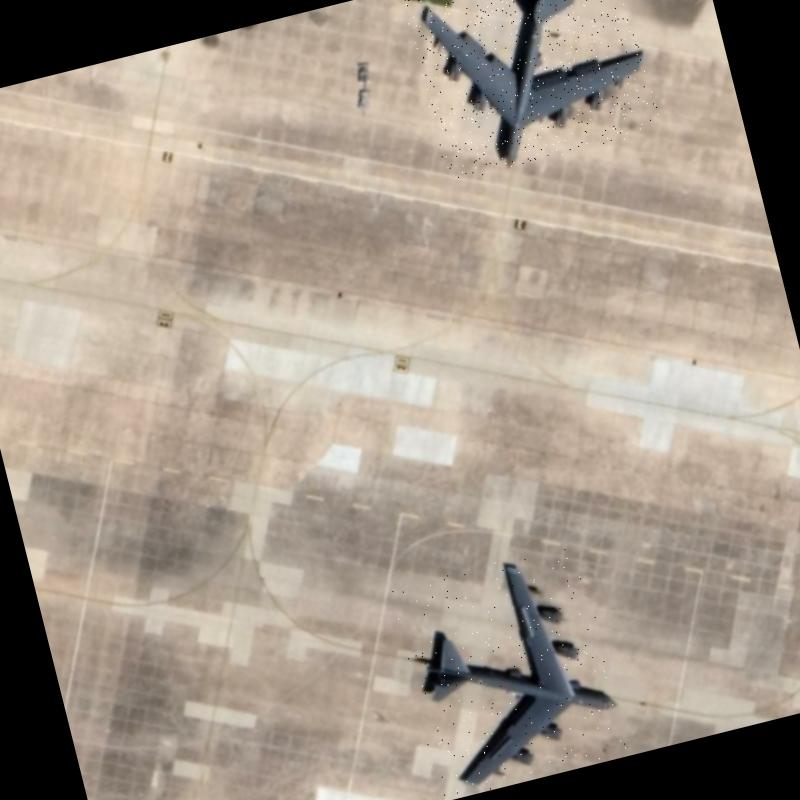A8: (387, 541, 629, 800), (402, 0, 662, 183)
